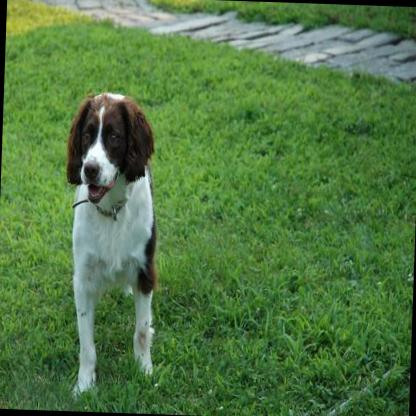English_springer: (54, 87, 164, 401)
